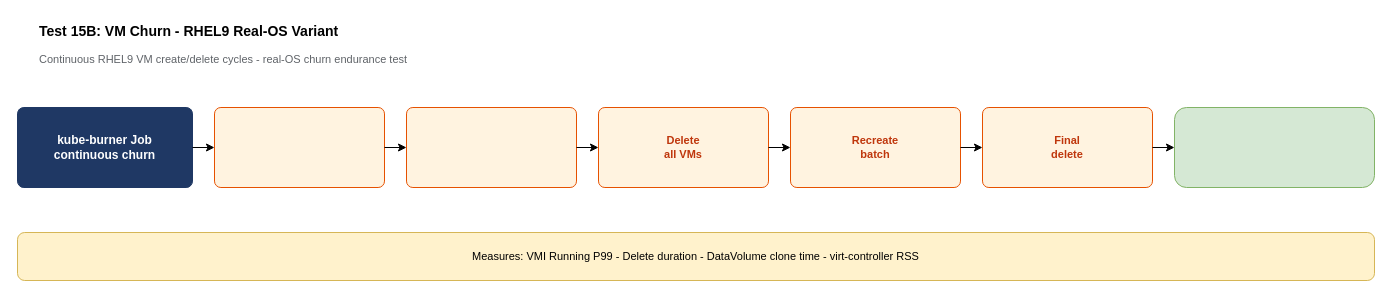
Image size: 1392x298. Some labels were removed from this diagram. Each missing label, with the centre of its shape:
"Create RHEL9 VMs" belongs at point 299,147.
"RHEL churn endurance ✓" belongs at point 1274,147.
"Wait Running" belongs at point 491,147.
